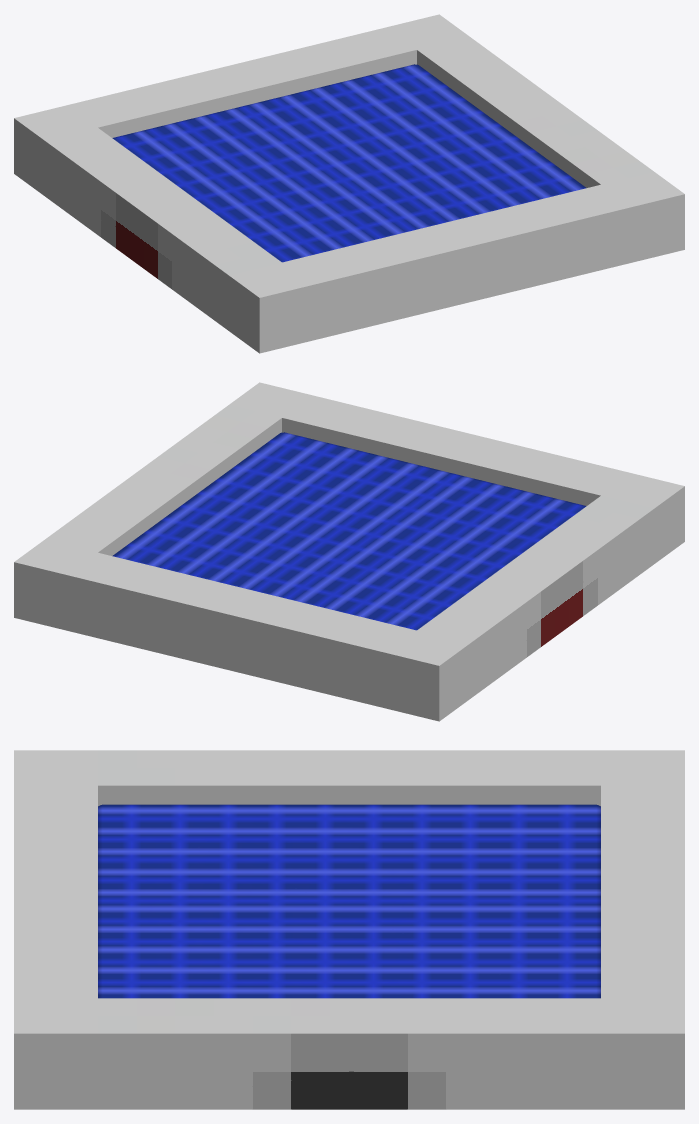
Rendered from solar_panel.obj.
The picture shows the model from 3 angles, top to bottom: view 1: azimuth 30°, elevation 25°; view 2: azimuth 150°, elevation 25°; view 3: azimuth 270°, elevation 25°; orthographic projection. The views are drawn at different scales.
Visible parts, largest first — view 1: cube, cell; view 2: cube, cell; view 3: cube, cell.
Part boxes in pixels (x1,y1,x2,y2): cube: (14,14,684,353); cell: (112,64,586,262); cube: (14,382,684,721); cell: (112,432,586,630); cube: (14,750,684,1109); cell: (98,804,600,998).
Bounding box in the file's own units: 1 × 0.125 × 1.
